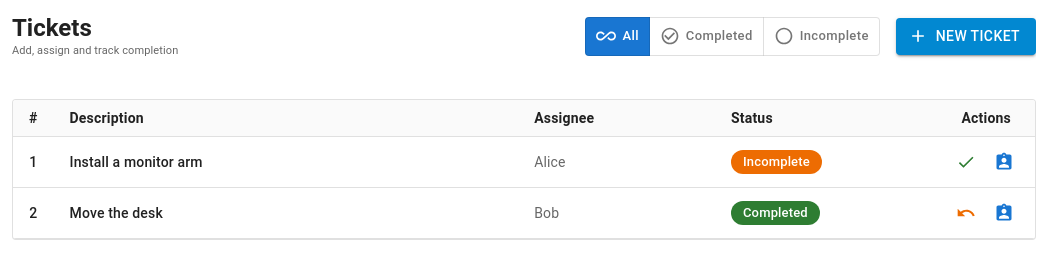
Tickets filter › shows both on All, filters Completed and Incomplete correctly
The image size is (1048, 257).
Expected: the text "Install a monitor arm" is shown, [70,154,203,170]
Expected: the text "Move the desk" is shown, [70,204,163,220]
Click the button "Completed": (706, 36) [649,17,764,56]
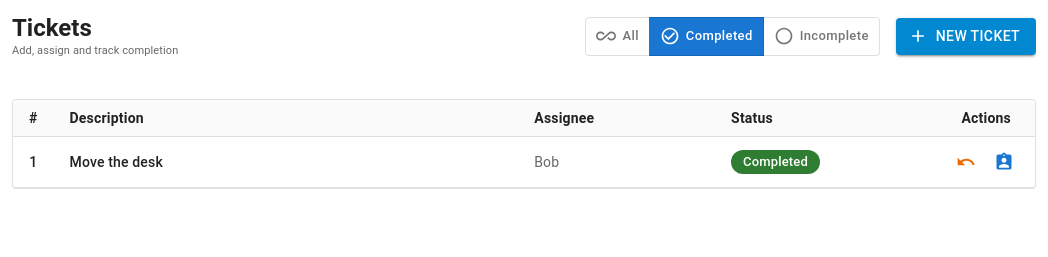
Expected: the text "Move the desk" is shown, [70,154,163,170]
Now the link "Install a monitor arm" is gone
Click the button "Incomplete": (821, 36) [763,17,880,56]
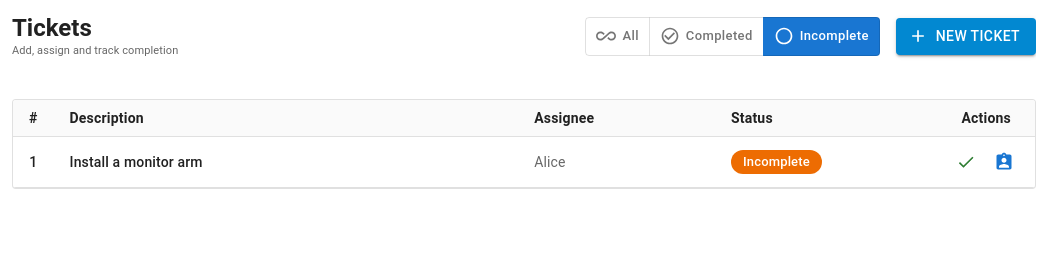
Now the text "Install a monitor arm" is shown, box [70,154,203,170]
Now the link "Move the desk" is gone
